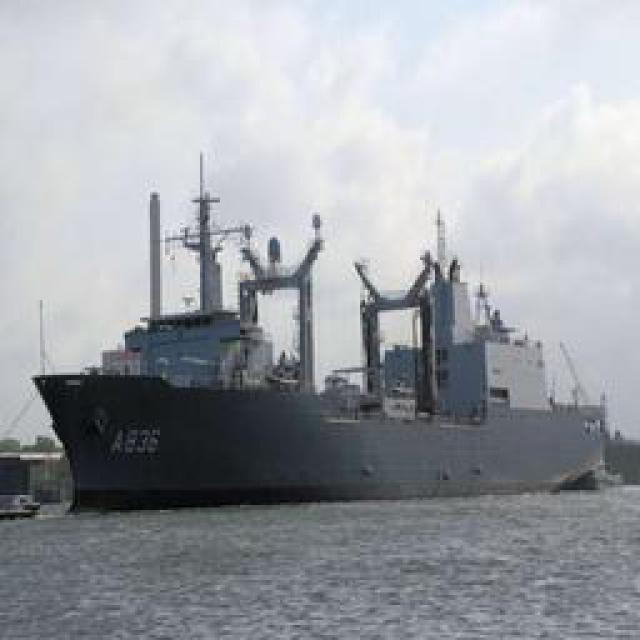Ship: (35, 169, 610, 514)
